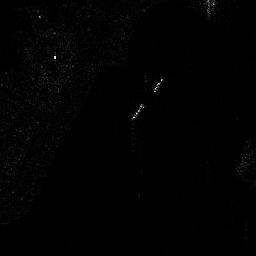ship: (131, 101, 145, 121), (153, 76, 164, 94)
